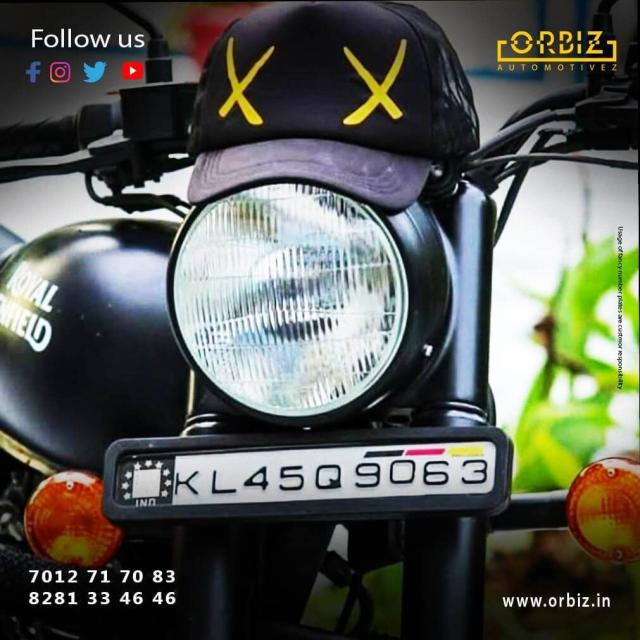plate: (99, 425, 515, 524)
